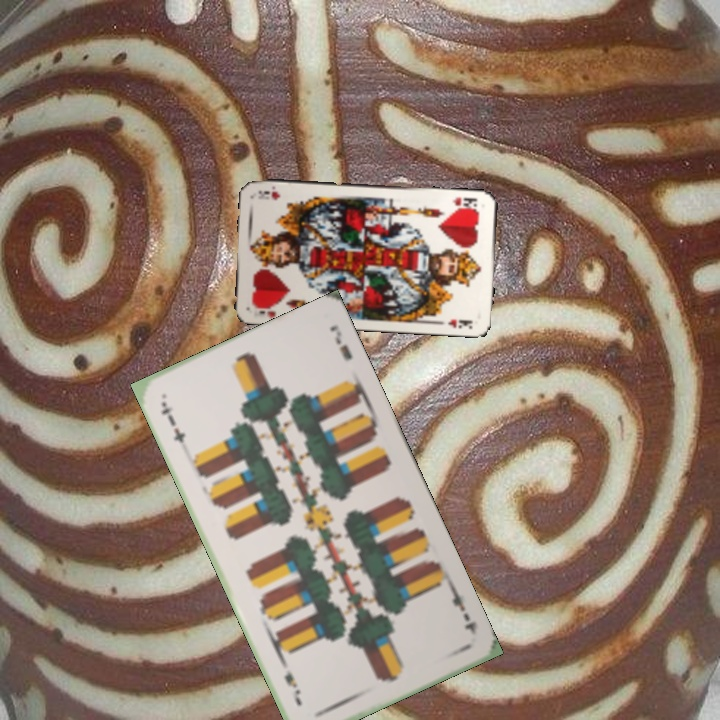E7: (446, 582, 479, 638), (157, 397, 188, 446)
HK: (248, 300, 278, 321), (448, 193, 480, 212)
